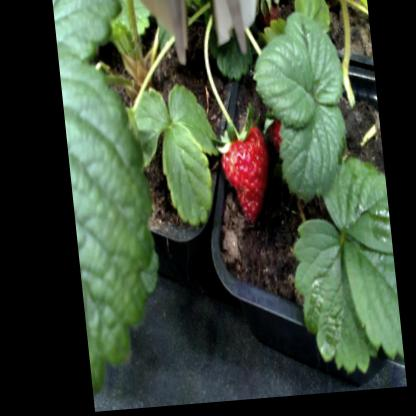ripe: (210, 127, 276, 237), (265, 106, 317, 172)
